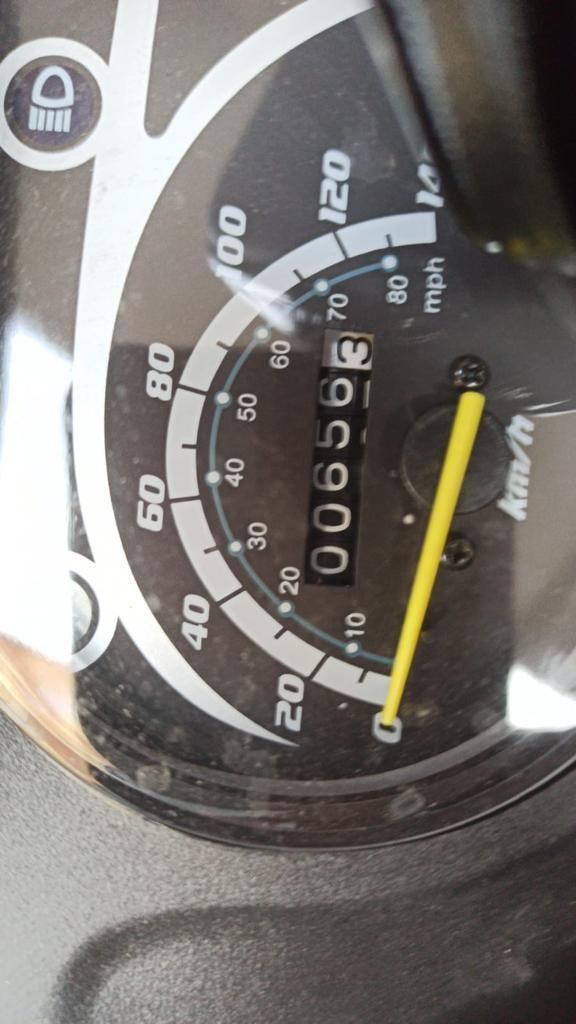0: (308, 500, 356, 535), (307, 541, 351, 578)
3: (333, 331, 375, 366)
5: (308, 414, 351, 452)
6: (306, 458, 354, 494), (313, 372, 354, 410)
odometer: (295, 324, 378, 592)
